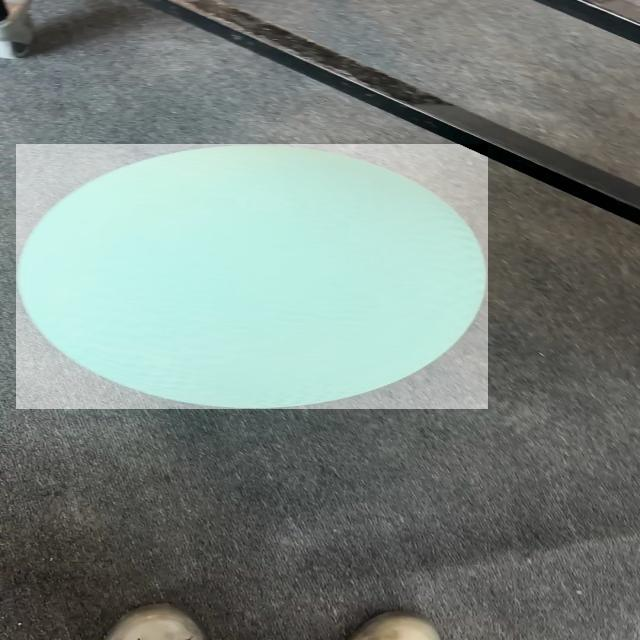Algae: (16, 144, 488, 409)
